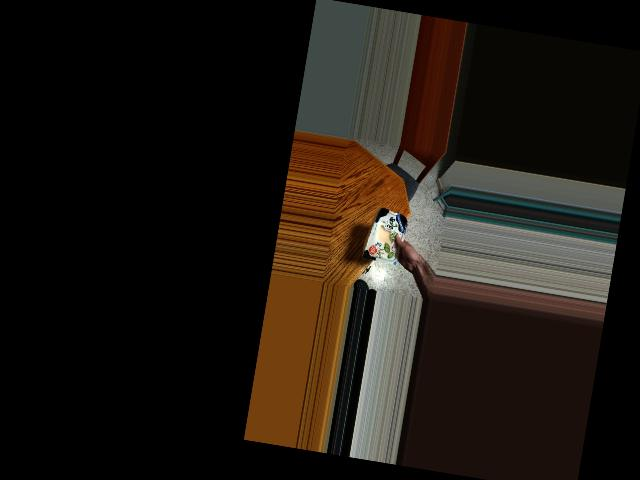cheese: (366, 205, 410, 259)
